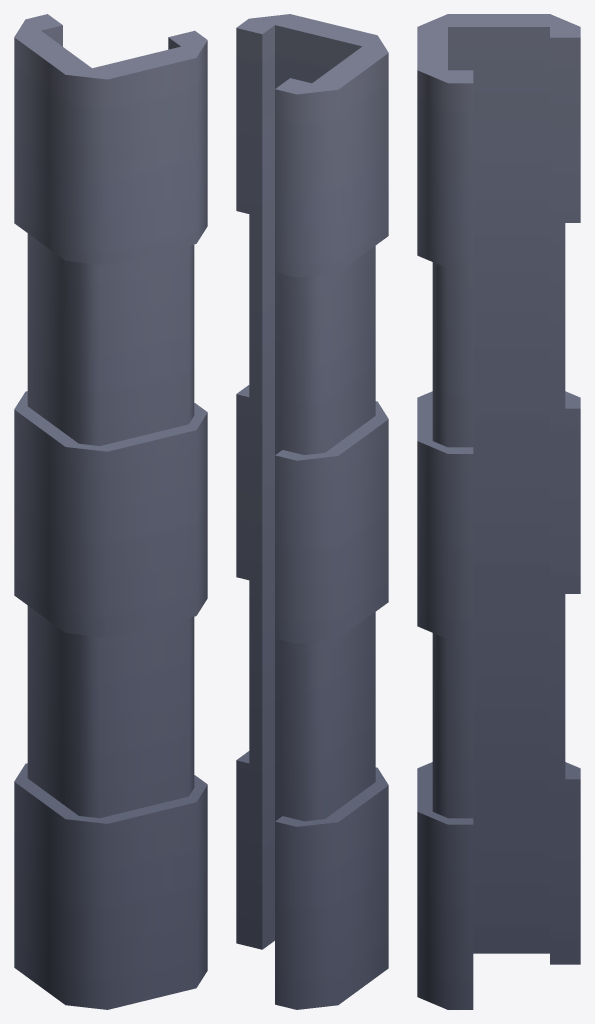
Rendered from wall-corner-detail.glb.
3 renders of one model, left to right at view 1: azimuth 30°, elevation 25°; view 2: azimuth 150°, elevation 25°; view 3: azimuth 270°, elevation 25°, orthographic.
Visible parts, largest first — view 1: wall-corner-detail; view 2: wall-corner-detail; view 3: wall-corner-detail.
Boxes of the visible parts, bbox=[...] form: wall-corner-detail: bbox=[14, 14, 207, 1009]; wall-corner-detail: bbox=[236, 14, 388, 1009]; wall-corner-detail: bbox=[417, 14, 580, 1009].
Bounding box in the file's own units: 0.16 × 1 × 0.16.
Materials: 1 (1 with a texture image).
